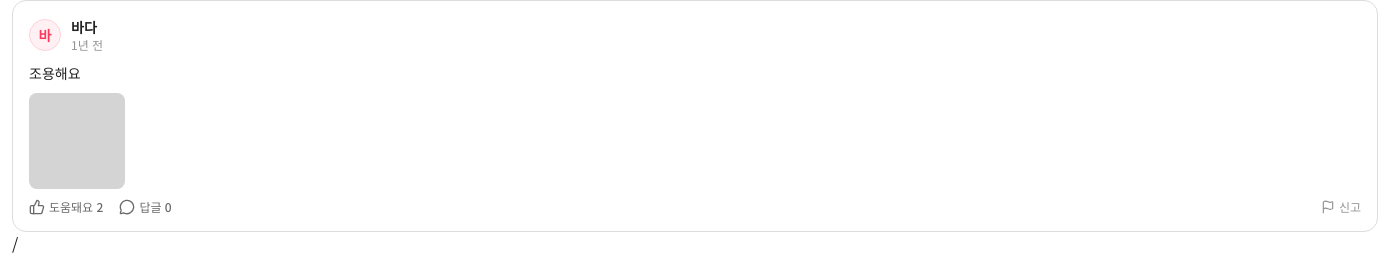
TipCard › 남의 팁: 신고는 있고 수정·삭제는 없다. 도움돼요 누르면 바로 +1, 응답으로 확정
Expected: the button "신고" is shown, [1321, 199, 1361, 215]
Click the button "도움돼요 2" at (66, 207), box [29, 199, 103, 215]
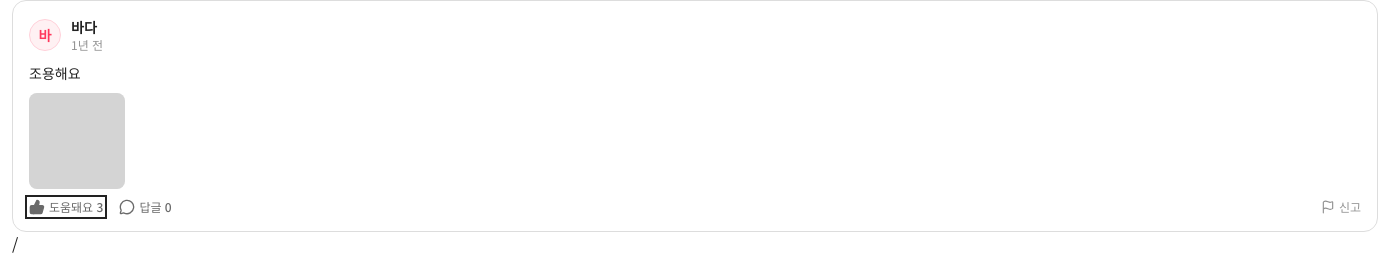
Expected: the button "도움돼요 3" is shown, [29, 199, 103, 215]
